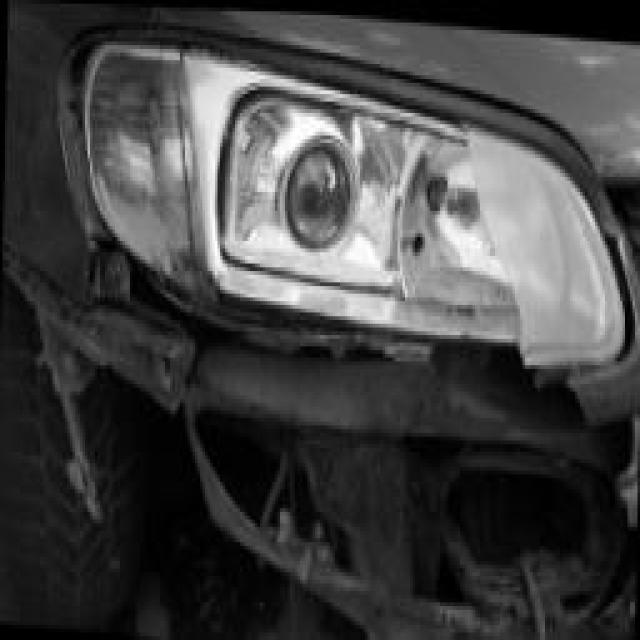Bumper: (58, 309, 638, 640)
Light: (58, 34, 640, 374)
